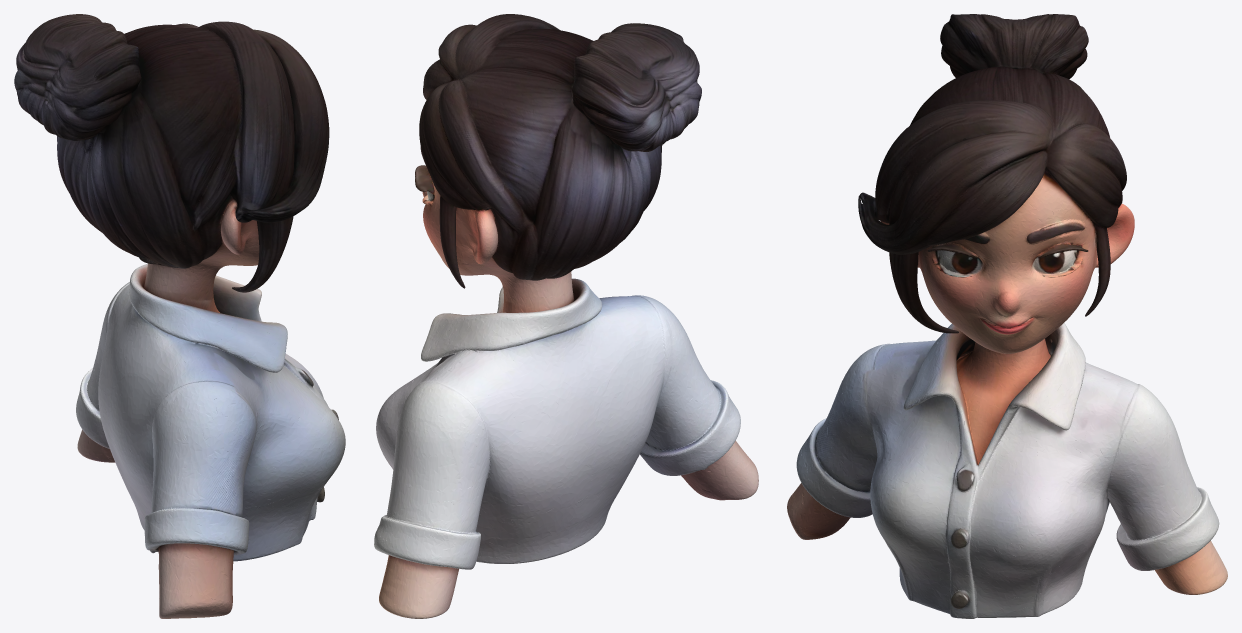
Rendered from dealer.glb.
3 views of the same model, side by side, from view 1: azimuth 30°, elevation 25°; view 2: azimuth 150°, elevation 25°; view 3: azimuth 270°, elevation 25° (orthographic). The views are drawn at different scales.
Visible parts, largest first — view 1: tripo_node_435a8471-23a9-4660-9b5c-0ce43e35956b; view 2: tripo_node_435a8471-23a9-4660-9b5c-0ce43e35956b; view 3: tripo_node_435a8471-23a9-4660-9b5c-0ce43e35956b.
Boxes of the visible parts, x1,y1,x2,y2 form: tripo_node_435a8471-23a9-4660-9b5c-0ce43e35956b: [14, 14, 345, 618]; tripo_node_435a8471-23a9-4660-9b5c-0ce43e35956b: [374, 14, 758, 618]; tripo_node_435a8471-23a9-4660-9b5c-0ce43e35956b: [787, 14, 1227, 618].
Bounding box in the file's own units: 0.582 × 0.9999 × 0.7864.
1 material, 1 textured.
